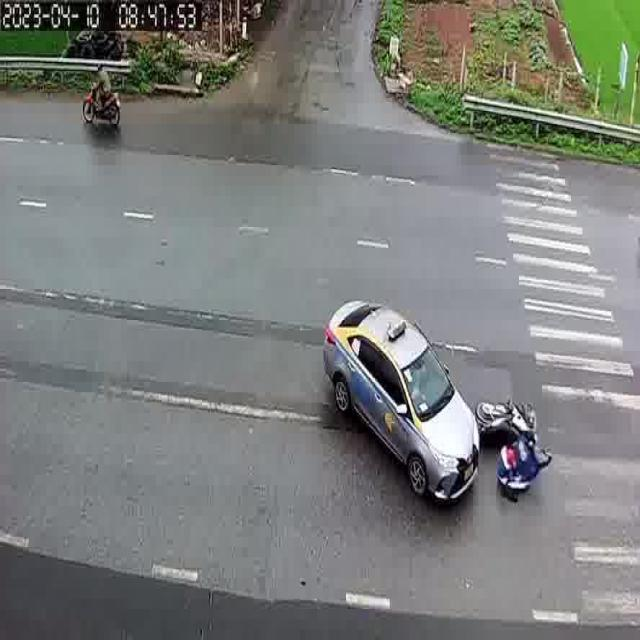multiple_accident: (317, 287, 557, 525)
normal: (63, 56, 136, 143)
